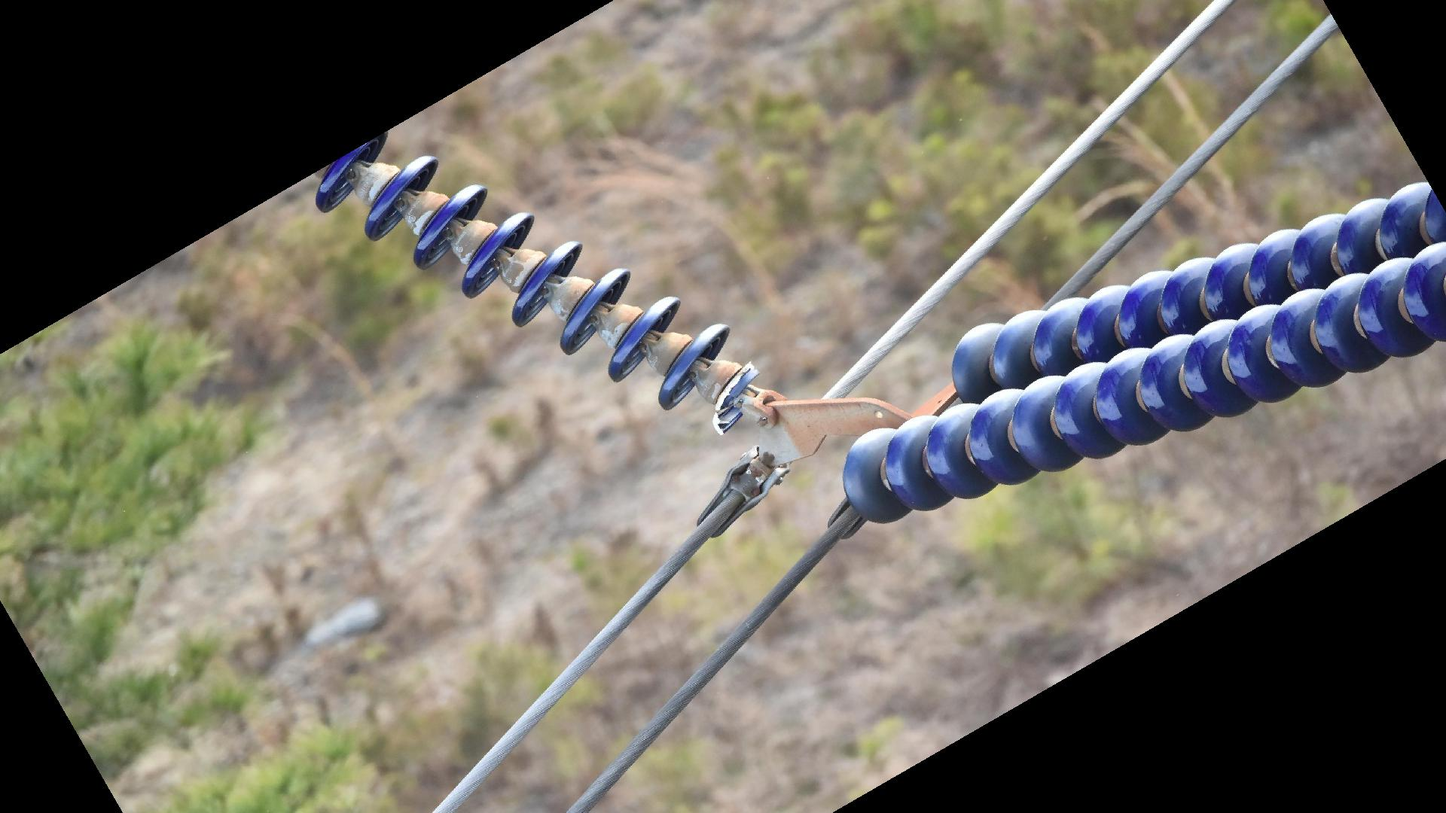insulator: (835, 240, 1446, 528), (311, 122, 764, 438), (943, 173, 1446, 402)
insulator_breakage: (707, 360, 758, 439)
